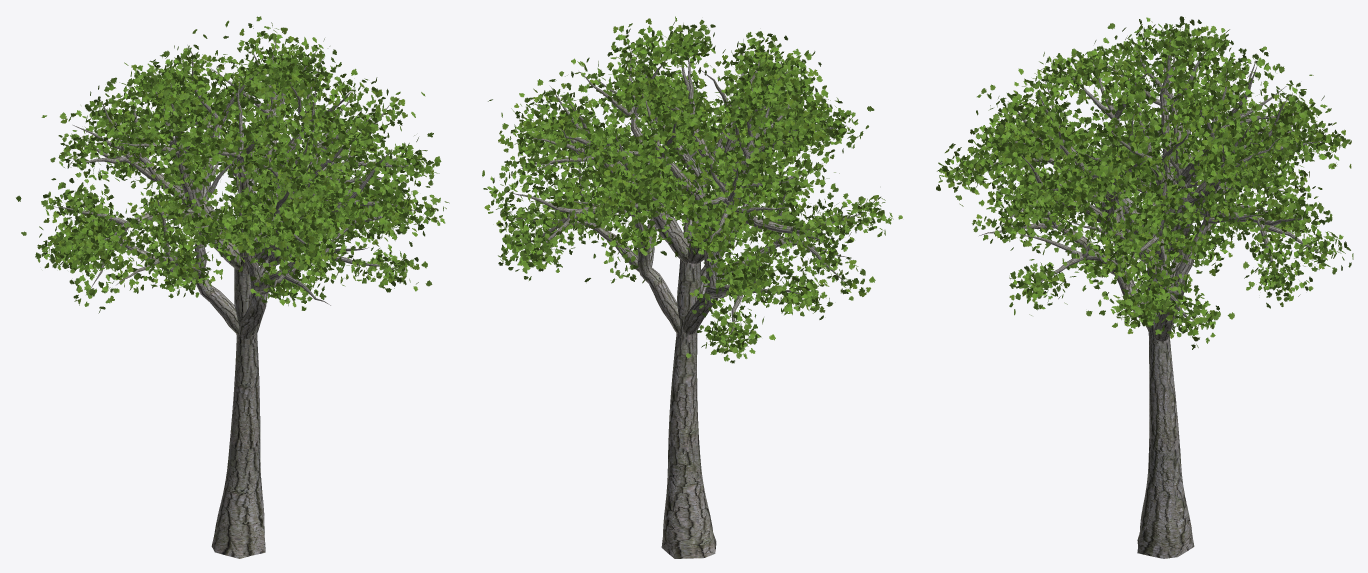
3 renders of one model, left to right at view 1: azimuth 30°, elevation 25°; view 2: azimuth 150°, elevation 25°; view 3: azimuth 270°, elevation 25°, orthographic.
Parts seen in each view (by area): view 1: Fresno foliage cards, Fresno_EasyTree_V020_Proof; view 2: Fresno foliage cards, Fresno_EasyTree_V020_Proof; view 3: Fresno foliage cards, Fresno_EasyTree_V020_Proof.
Boxes of the visible parts, box(x1,y1,x2,y2) form: Fresno foliage cards: box(16, 16, 449, 313); Fresno_EasyTree_V020_Proof: box(54, 36, 421, 558); Fresno foliage cards: box(482, 16, 902, 363); Fresno_EasyTree_V020_Proof: box(509, 39, 861, 558); Fresno foliage cards: box(936, 16, 1353, 349); Fresno_EasyTree_V020_Proof: box(973, 34, 1327, 558).
Size of the model in its own units: 7.83 by 9.5 by 7.21.
Materials: 2 (2 with a texture image).
